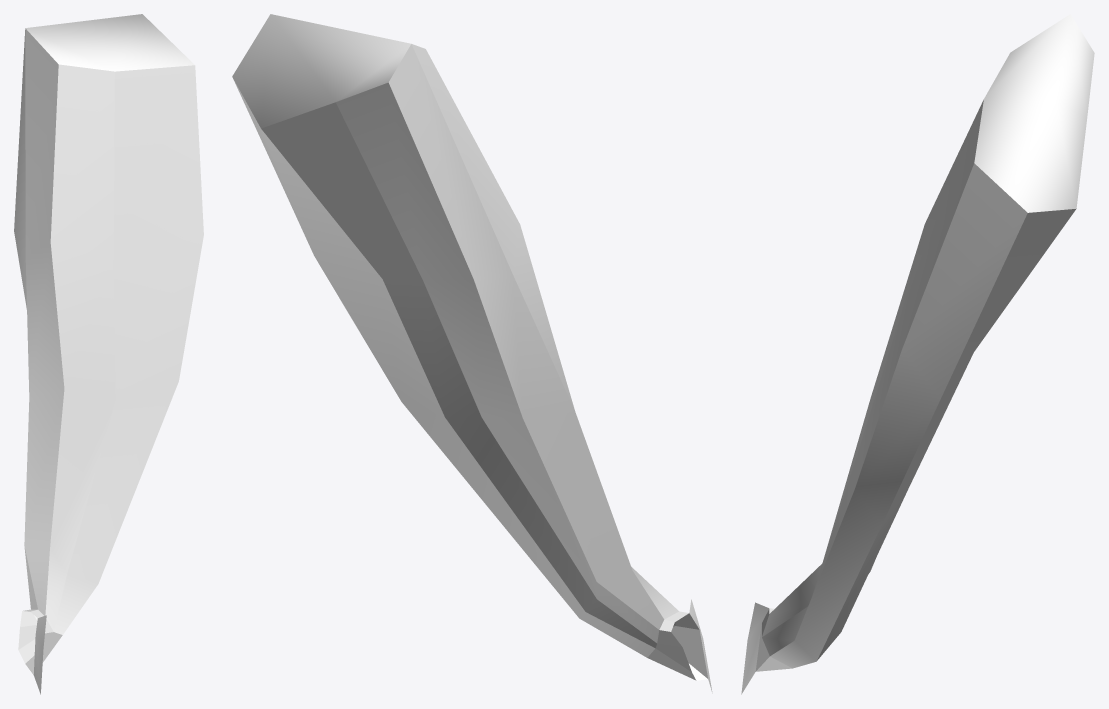
File: ltail.obj
The picture shows the model from 3 angles, left to right: view 1: azimuth 30°, elevation 25°; view 2: azimuth 150°, elevation 25°; view 3: azimuth 270°, elevation 25°; orthographic projection. The views are drawn at different scales.
Parts seen in each view (by area): view 1: pasted__pCube28 group; view 2: pasted__pCube28 group; view 3: pasted__pCube28 group.
Part boxes in pixels (x1,y1,x2,y2): pasted__pCube28 group: [14, 14, 203, 694]; pasted__pCube28 group: [232, 14, 712, 693]; pasted__pCube28 group: [741, 14, 1094, 694].
Size of the model in its own units: 3.65 by 7.42 by 3.16.
1 material, 1 textured.
